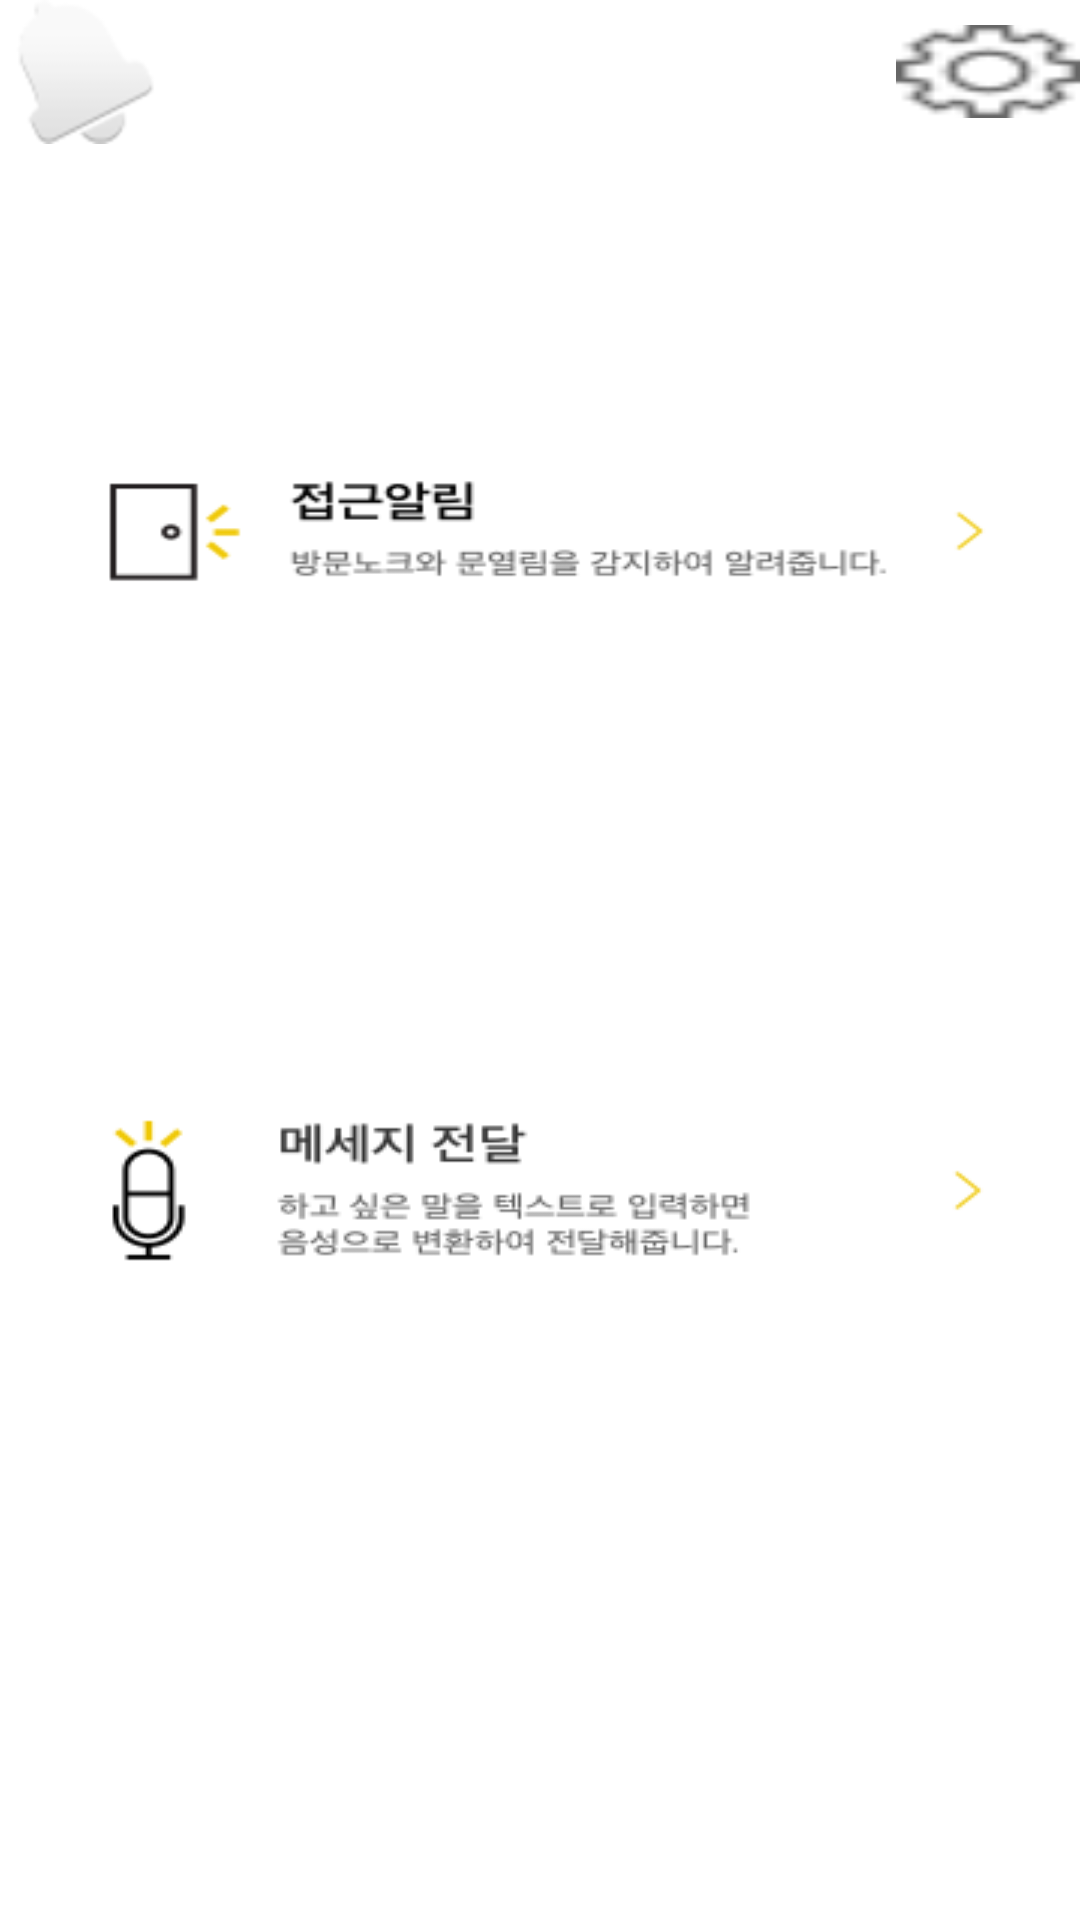

Screen size 1080 x 1920. Icon name, then its center in pixels as [x,y]:
popup reminder: [86,101]
setting: [988,71]
